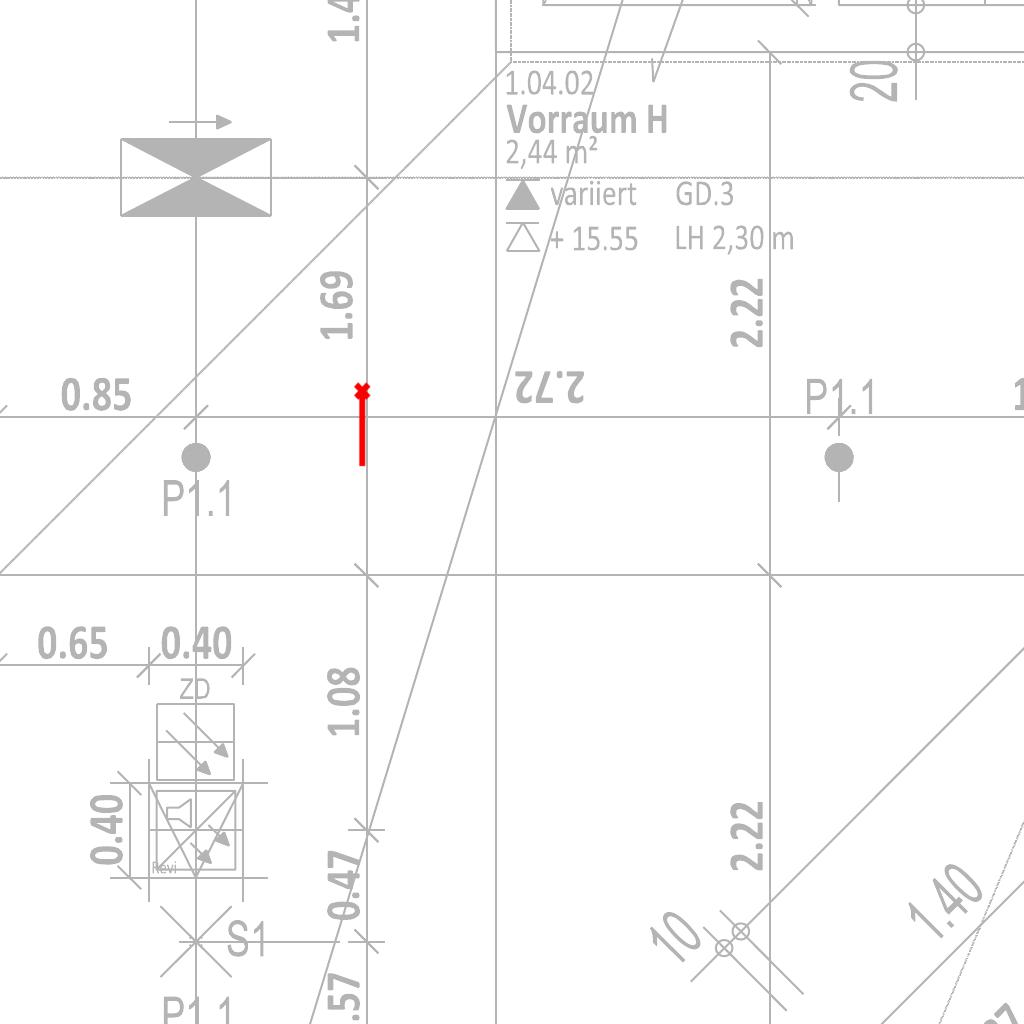ASR_Ansaugoeffnung: (352, 381, 375, 469)
